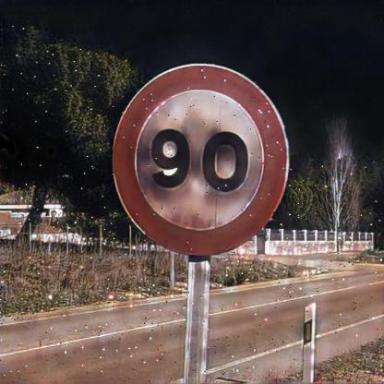Speed_limit_90: (106, 65, 292, 255)
